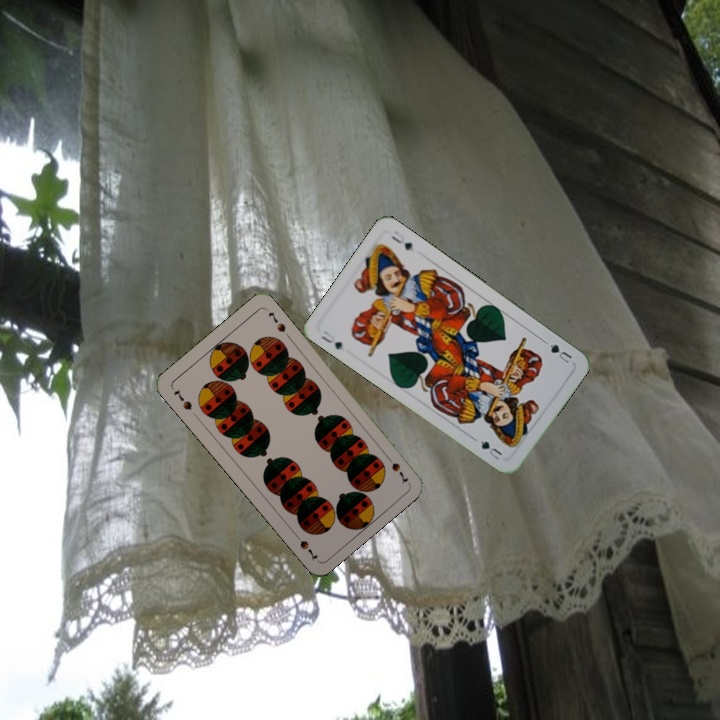GU: (546, 340, 575, 366), (317, 327, 345, 353)
S7: (382, 450, 411, 486), (170, 385, 195, 413)
